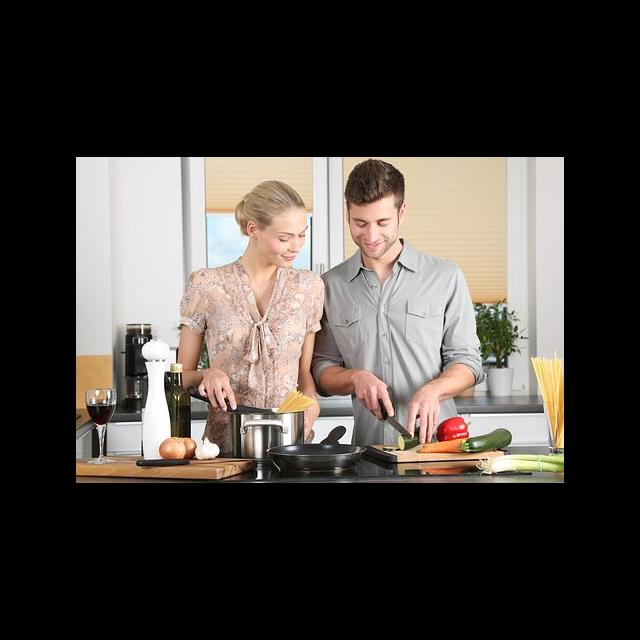female: (219, 179, 315, 267)
male: (347, 170, 415, 259)
